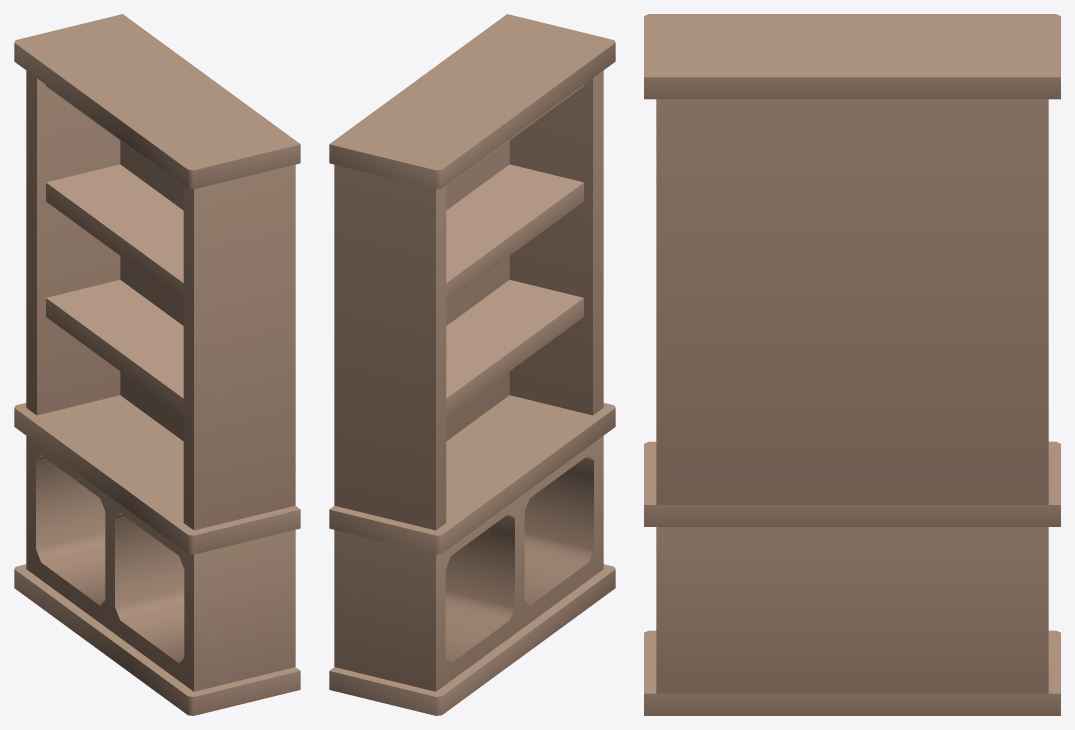
File: cabinet-bookcase-classic-doors.glb
3 views of the same model, side by side, from view 1: azimuth 30°, elevation 25°; view 2: azimuth 150°, elevation 25°; view 3: azimuth 270°, elevation 25° (orthographic). The views are drawn at different scales.
Visible parts, largest first — view 1: cabinet-bookcase-classic-doors; view 2: cabinet-bookcase-classic-doors; view 3: cabinet-bookcase-classic-doors.
Part boxes in pixels (x1=…): cabinet-bookcase-classic-doors: x1=14, y1=14, x2=300, y2=715; cabinet-bookcase-classic-doors: x1=329, y1=14, x2=615, y2=715; cabinet-bookcase-classic-doors: x1=644, y1=14, x2=1060, y2=715.
Size of the model in its own units: 0.305 by 1.44 by 0.85.
